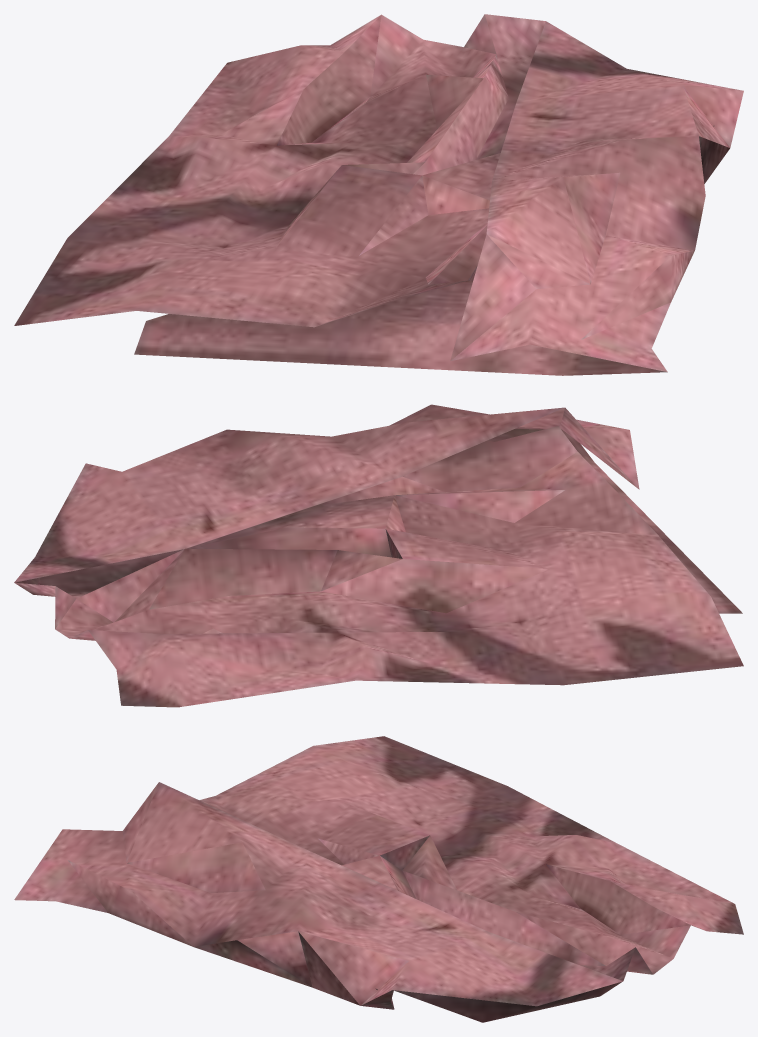
The model's file is rag_towel_pink_1_lod1_web.glb.
3 renders of one model, top to bottom at view 1: azimuth 30°, elevation 25°; view 2: azimuth 150°, elevation 25°; view 3: azimuth 270°, elevation 25°, orthographic. The views are drawn at different scales.
Visible parts, largest first — view 1: rag_towel_pink_1_Cloth; view 2: rag_towel_pink_1_Cloth; view 3: rag_towel_pink_1_Cloth.
Boxes of the visible parts, x1=… form: rag_towel_pink_1_Cloth: x1=14, y1=14, x2=743, y2=375; rag_towel_pink_1_Cloth: x1=14, y1=404, x2=743, y2=707; rag_towel_pink_1_Cloth: x1=14, y1=736, x2=743, y2=1022.
Size of the model in its own units: 0.5445 by 0.0801 by 0.565.
Materials: 1 (1 with a texture image).
